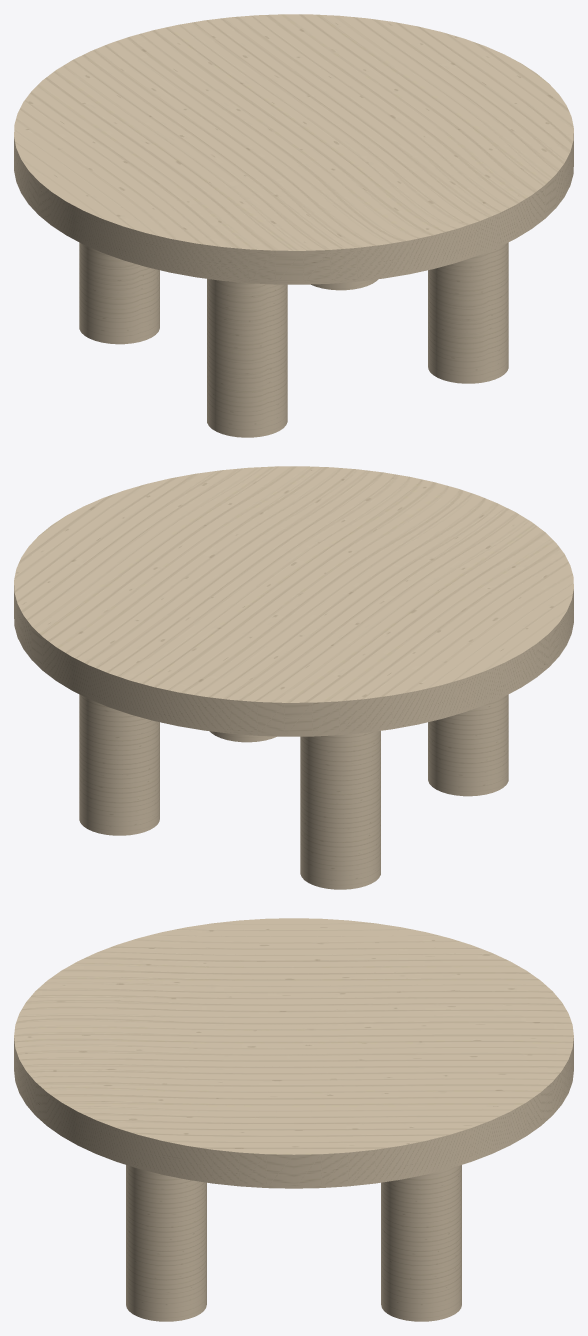
File: coffee-table-travertine.glb
3 views of the same model, one above another, from view 1: azimuth 30°, elevation 25°; view 2: azimuth 150°, elevation 25°; view 3: azimuth 270°, elevation 25° (orthographic).
Visible parts, largest first — view 1: coffee-table-travertine; view 2: coffee-table-travertine; view 3: coffee-table-travertine.
Part boxes in pixels (bbox=[...]): coffee-table-travertine: bbox=[14, 14, 573, 437]; coffee-table-travertine: bbox=[14, 466, 573, 889]; coffee-table-travertine: bbox=[14, 918, 573, 1321].
Bounding box in the file's own units: 0.9 × 0.3799 × 0.9.
Materials: 1 (1 with a texture image).
